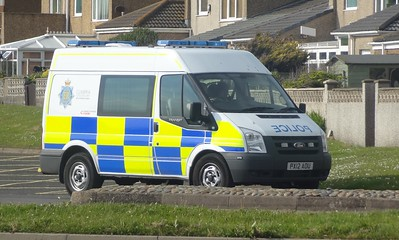van: (39, 44, 333, 199)
